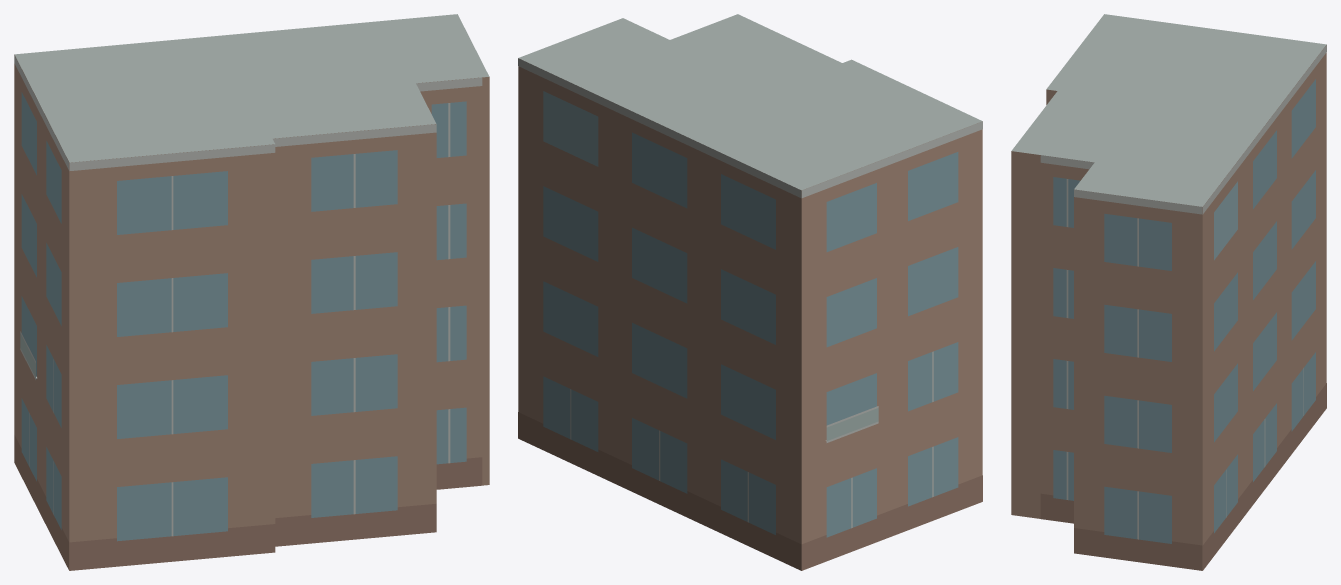
Rendered from survey-upis-32469818.glb.
The picture shows the model from 3 angles, left to right: view 1: azimuth 30°, elevation 25°; view 2: azimuth 150°, elevation 25°; view 3: azimuth 270°, elevation 25°; orthographic projection. The views are drawn at different scales.
Parts seen in each view (by area): view 1: survey-upis-32469818.tmp; view 2: survey-upis-32469818.tmp; view 3: survey-upis-32469818.tmp.
Boxes of the visible parts, x1=… form: survey-upis-32469818.tmp: x1=14, y1=14, x2=489, y2=570; survey-upis-32469818.tmp: x1=518, y1=14, x2=982, y2=570; survey-upis-32469818.tmp: x1=1011, y1=14, x2=1326, y2=570.
Bounding box in the file's own units: 13.2 × 11.6 × 9.12.
